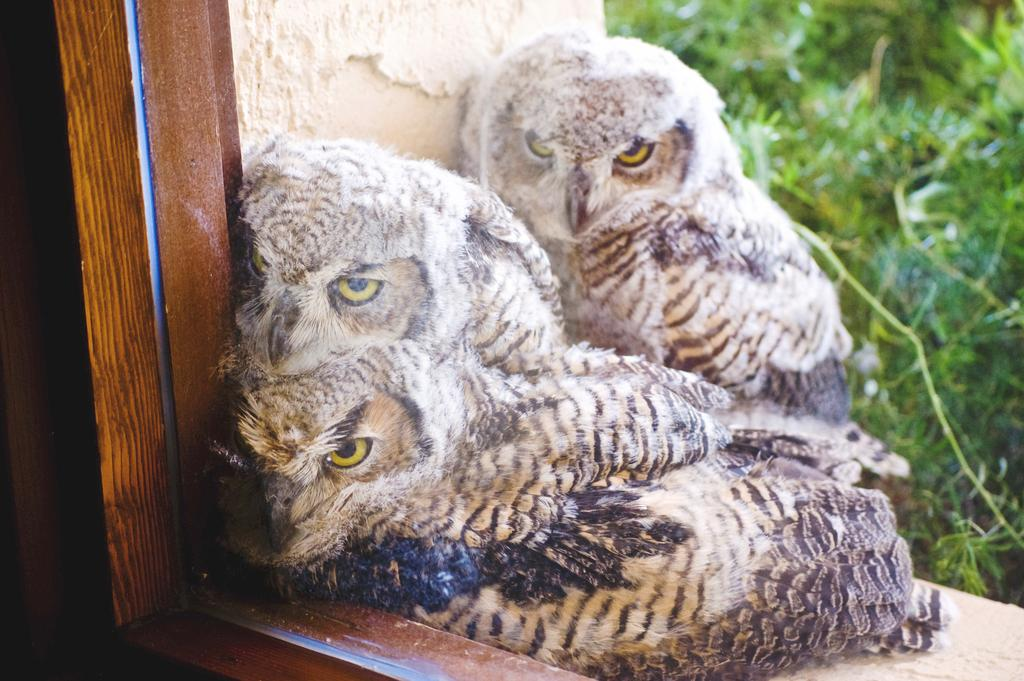Owl: (212, 332, 956, 680), (454, 30, 848, 422), (235, 124, 571, 367)
